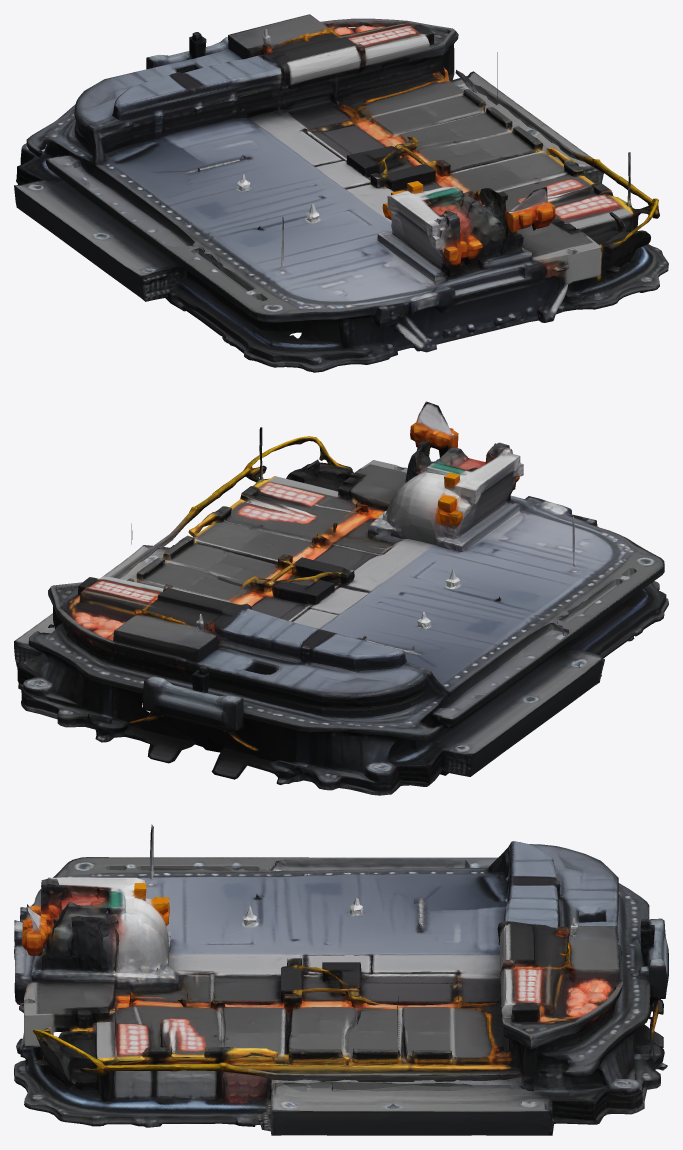
File: rs_etron_battery.glb
3 views of the same model, one above another, from view 1: azimuth 30°, elevation 25°; view 2: azimuth 150°, elevation 25°; view 3: azimuth 270°, elevation 25° (orthographic). The views are drawn at different scales.
Visible parts, largest first — view 1: world; view 2: world; view 3: world.
Boxes of the visible parts, x1=… form: world: x1=14, y1=14, x2=668, y2=372; world: x1=14, y1=401, x2=668, y2=795; world: x1=14, y1=824, x2=668, y2=1135.
Bounding box in the file's own units: 0.8777 × 0.2621 × 1.
1 material, 1 textured.
